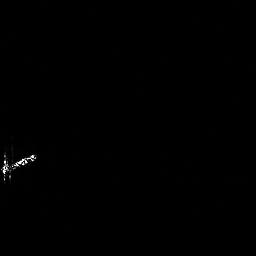ship: (2, 154, 37, 174)
